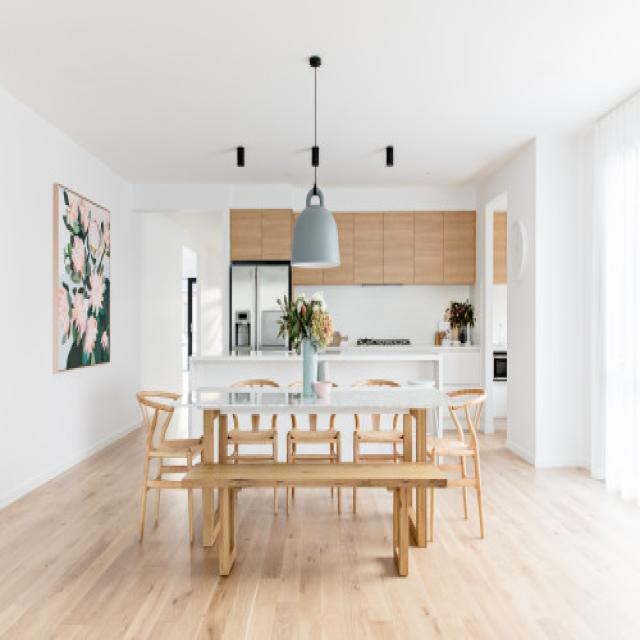natural chair: (133, 386, 198, 544), (430, 388, 490, 536)
natural desk: (183, 456, 452, 584)
